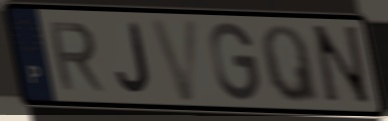G: (207, 20, 262, 104)
J: (114, 20, 153, 96)
N: (309, 23, 376, 108)
Q: (259, 22, 324, 106)
R: (45, 20, 108, 94)
V: (147, 16, 203, 104)
